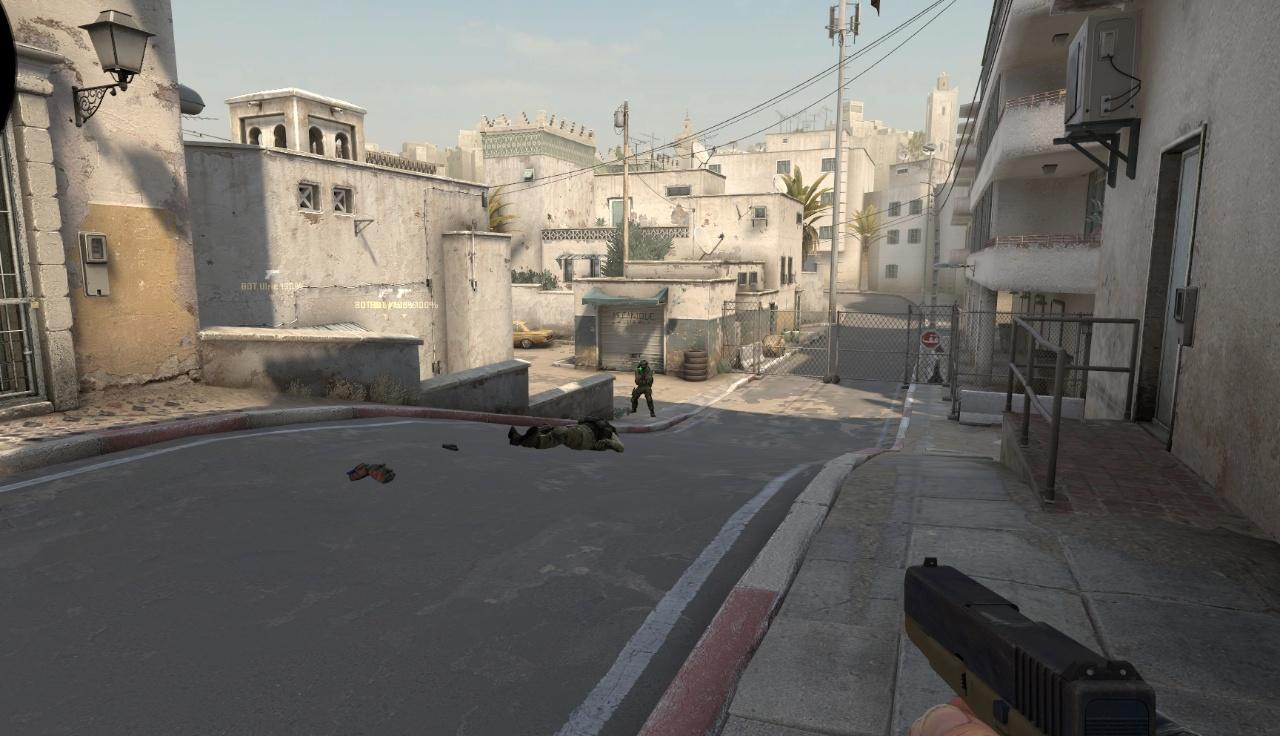ct: (633, 360, 653, 416)
cthead: (640, 361, 647, 369)
pistol: (901, 557, 1164, 736)
